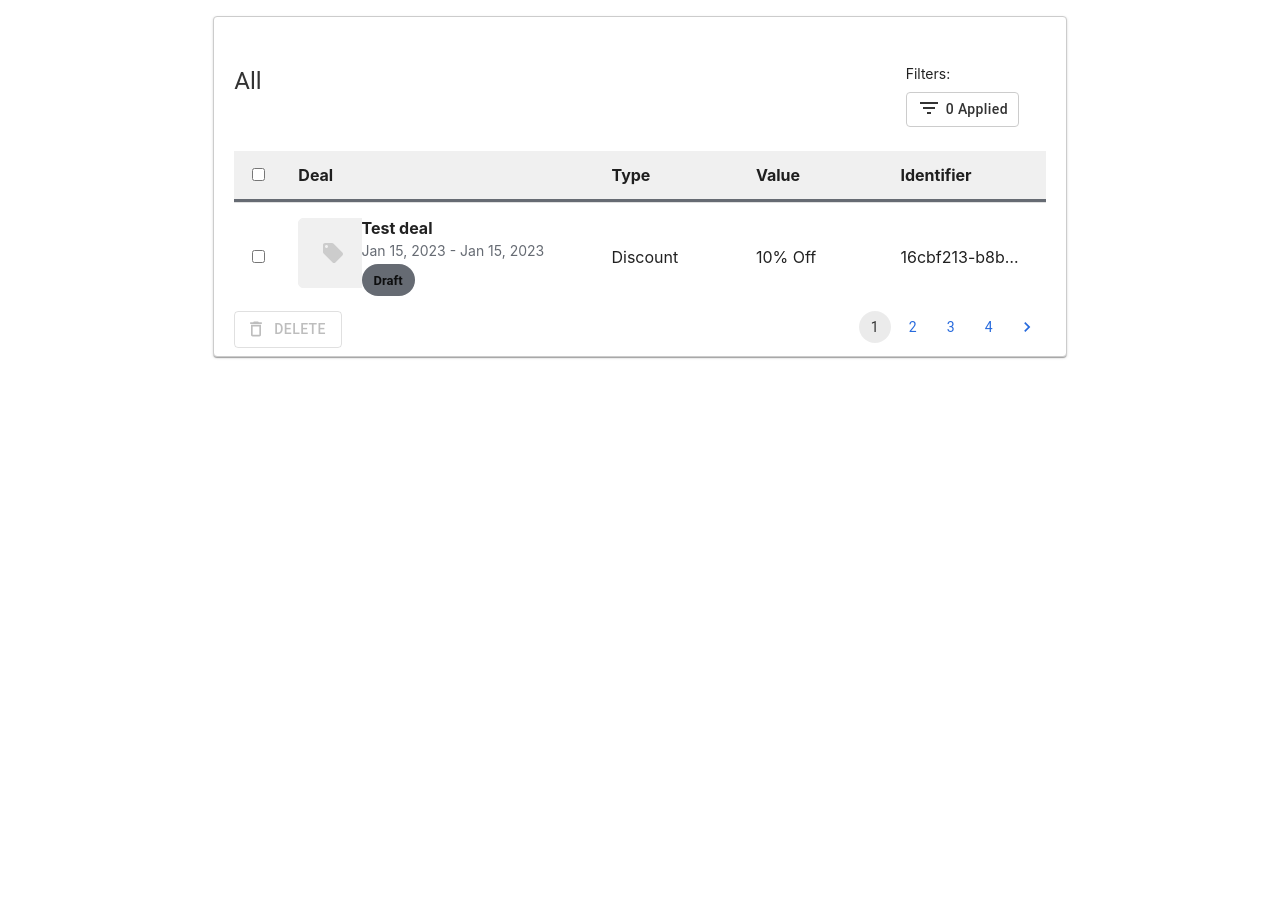
Test: All Deals tests › should open the delete modal on delete button click
Click the checkbox named "select-all-rows".
click(259, 174)  # box x1=252 y1=168 x2=265 y2=180
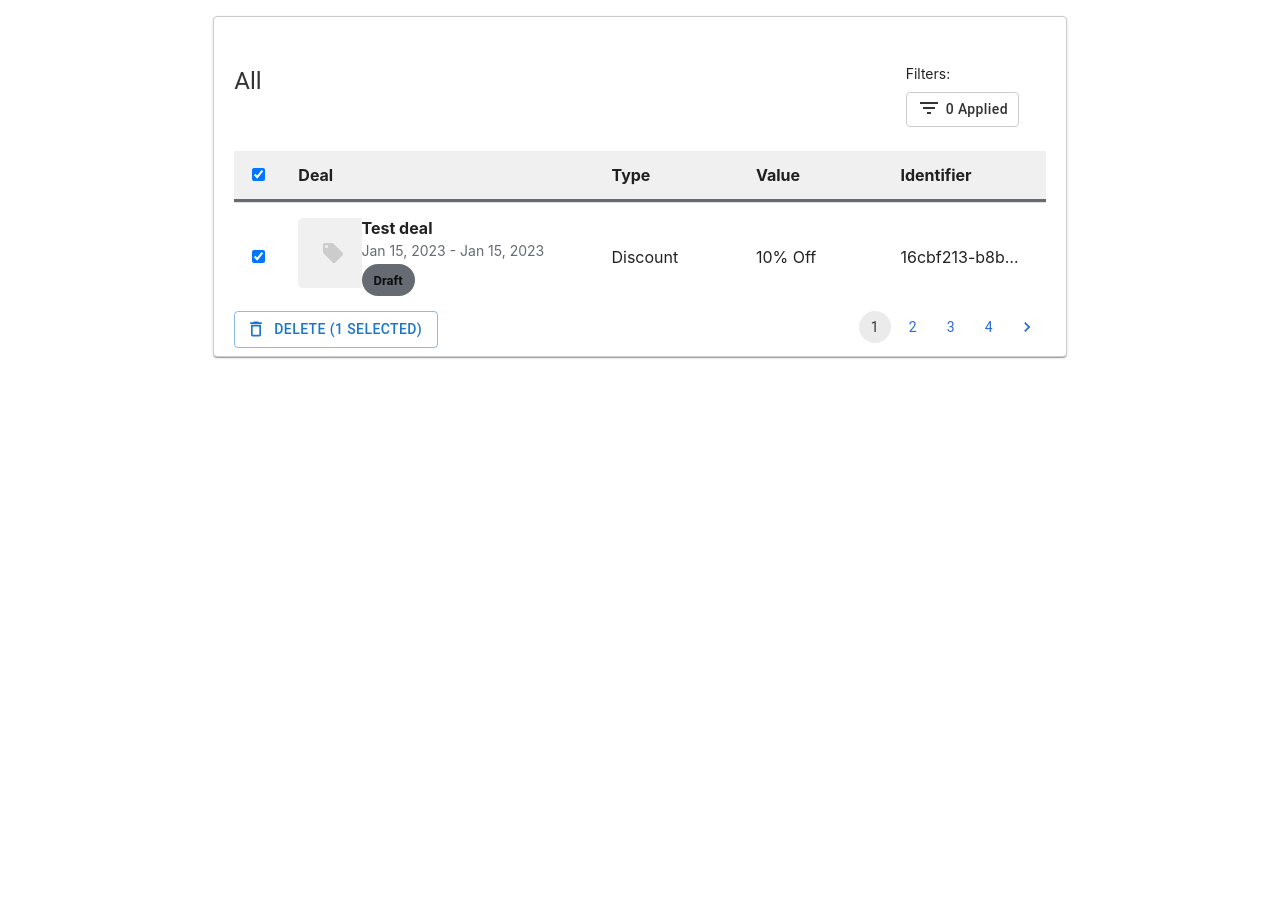
Click the button with test id "delete-btn".
click(336, 329)  # box x1=234 y1=311 x2=438 y2=348
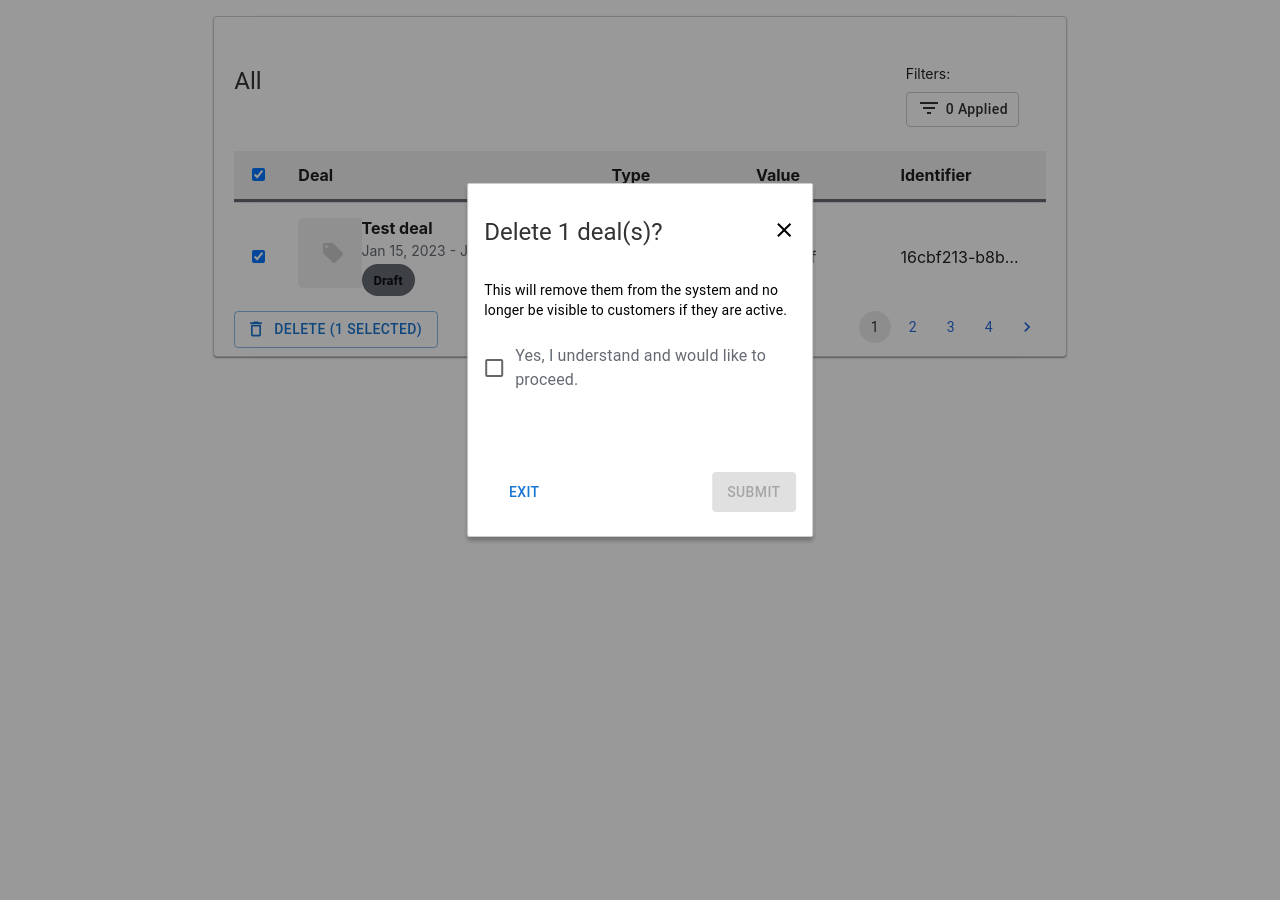
Now the text "Yes, I understand and would like to proceed." is shown, box x1=515 y1=344 x2=780 y2=392
